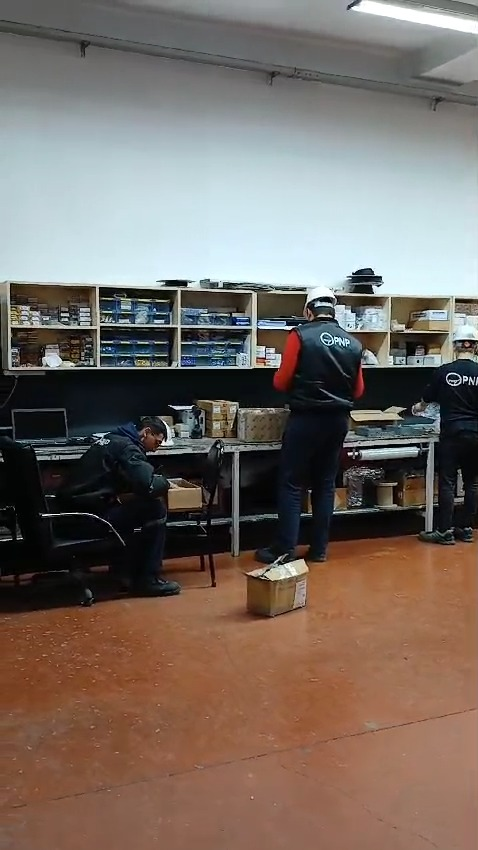safety_helmet: (304, 285, 337, 318), (451, 324, 477, 343)
